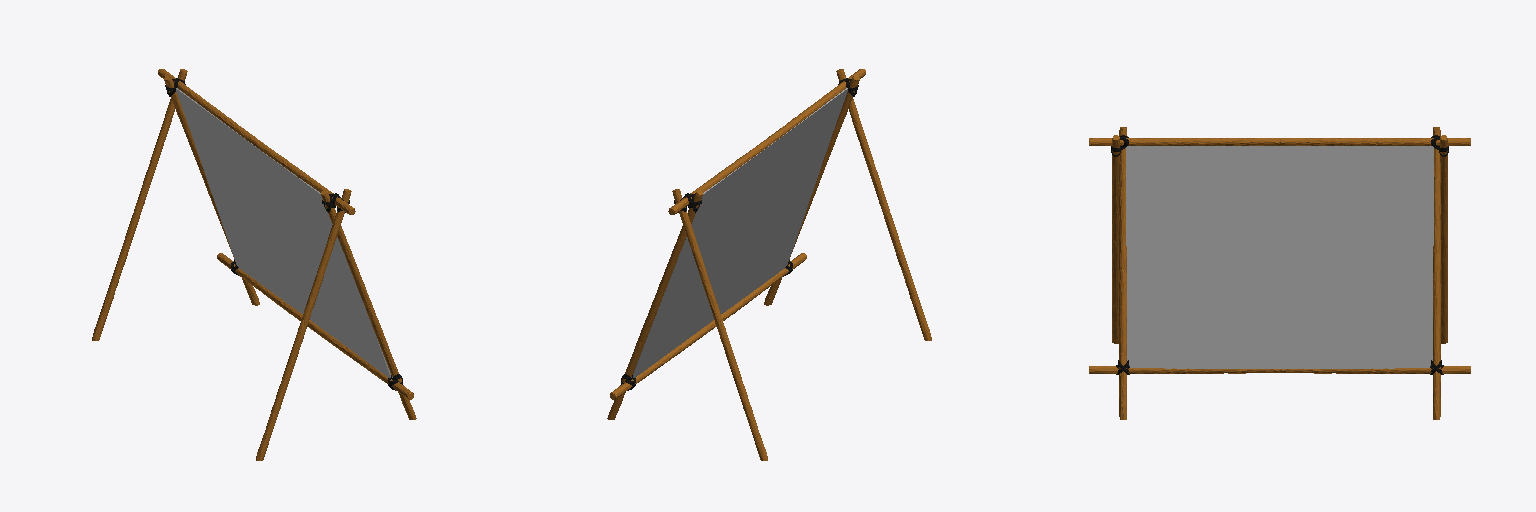
File: koja.obj
3 renders of one model, left to right at view 1: azimuth 30°, elevation 25°; view 2: azimuth 150°, elevation 25°; view 3: azimuth 270°, elevation 25°, orthographic.
Parts seen in each view (by area): view 1: Plane_Plane.001, Cylinder; view 2: Plane_Plane.001, Cylinder; view 3: Plane_Plane.001, Cylinder, Cylinder.003_Cylinder.004.
Boxes of the visible parts, box(x1,y1,x2,y2) form: Plane_Plane.001: box(176, 88, 392, 379); Cylinder: box(92, 69, 416, 460); Plane_Plane.001: box(631, 88, 847, 379); Cylinder: box(607, 69, 931, 460); Plane_Plane.001: box(1126, 146, 1433, 368); Cylinder: box(1089, 127, 1470, 419); Cylinder.003_Cylinder.004: box(1111, 135, 1448, 374).
Bounding box in the file's own units: 17.96 × 26.16 × 36.44.